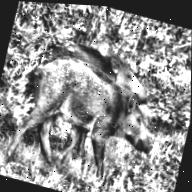boar: (13, 21, 182, 192), (56, 27, 164, 114)
